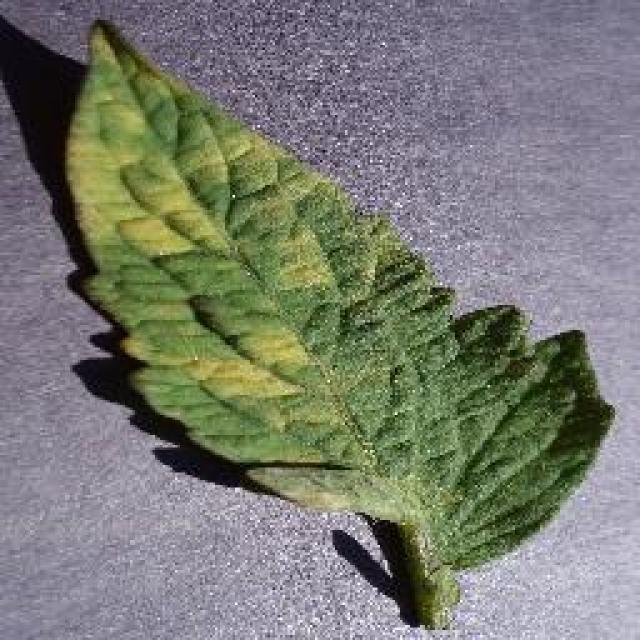Tom_Leaf_Mold: (85, 118, 343, 418)
